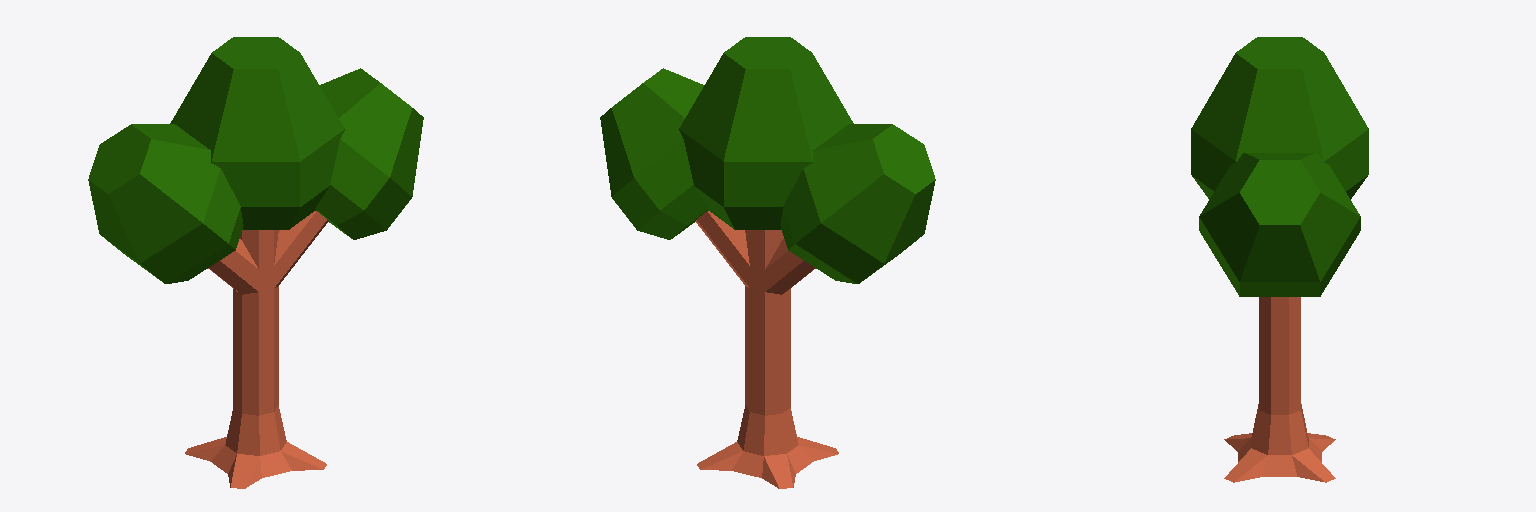
The model's file is tree2.obj.
The picture shows the model from 3 angles: view 1: azimuth 30°, elevation 25°; view 2: azimuth 150°, elevation 25°; view 3: azimuth 270°, elevation 25°; orthographic projection.
Parts seen in each view (by area): view 1: leafs_cone, trunk, trunk_baseDetailed, trunk_split; view 2: leafs_cone, trunk, trunk_baseDetailed, trunk_split; view 3: leafs_cone, trunk_baseDetailed, trunk.
Boxes of the visible parts, x1,y1,x2,y2 form: leafs_cone: [88, 37, 423, 283]; trunk: [208, 211, 328, 415]; trunk_baseDetailed: [185, 405, 326, 488]; trunk_split: [222, 253, 294, 305]; leafs_cone: [600, 37, 935, 283]; trunk: [695, 211, 815, 415]; trunk_baseDetailed: [697, 405, 838, 488]; trunk_split: [729, 253, 801, 305]; leafs_cone: [1191, 37, 1368, 296]; trunk_baseDetailed: [1224, 404, 1335, 482]; trunk: [1259, 304, 1300, 414].
Size of the model in its own units: 3.12 by 3.84 by 1.52.